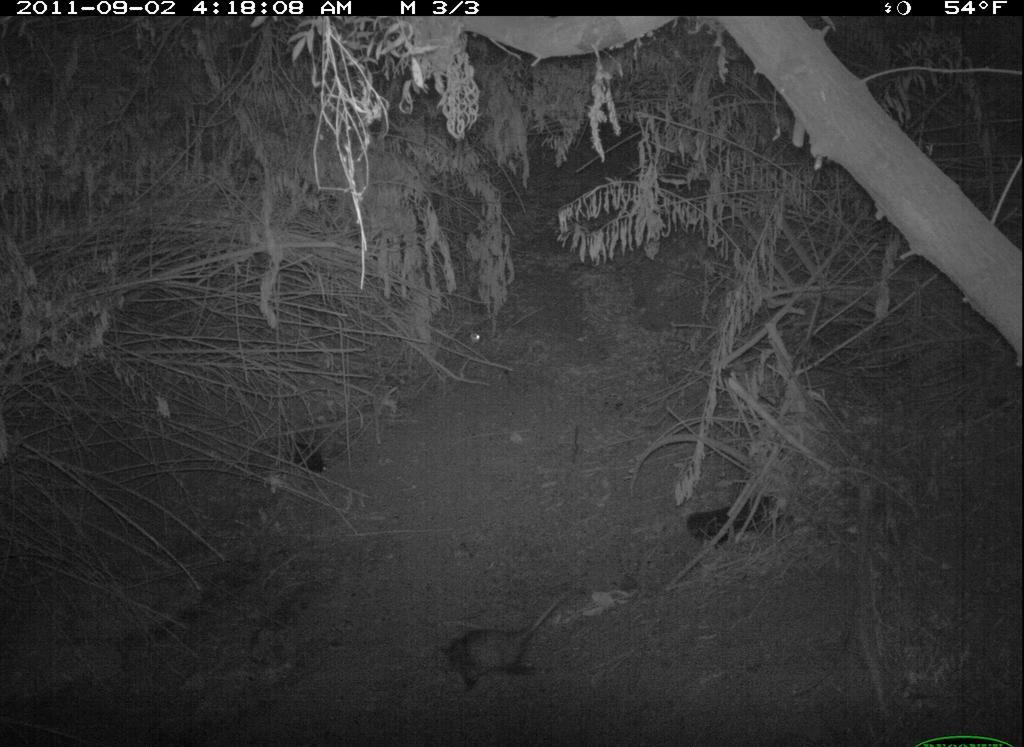opossum: (417, 589, 602, 710)
